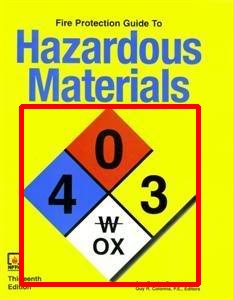nfpa: (21, 106, 198, 284)
